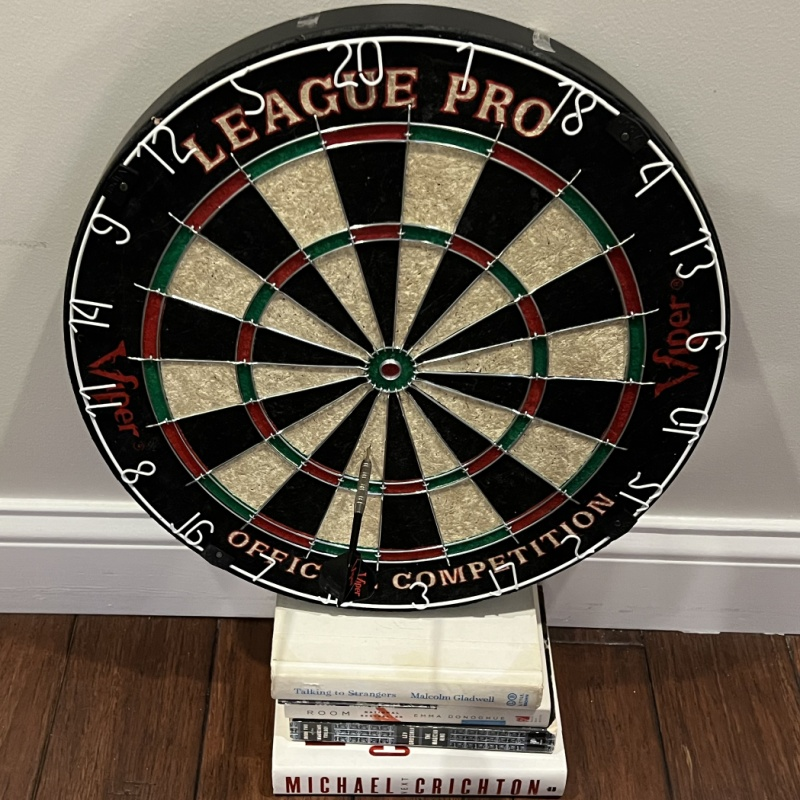dart: (357, 441, 379, 475)
eleven: (78, 380, 125, 418)
six: (685, 328, 730, 355)
three: (405, 578, 432, 613)
twenty: (327, 37, 382, 88)
